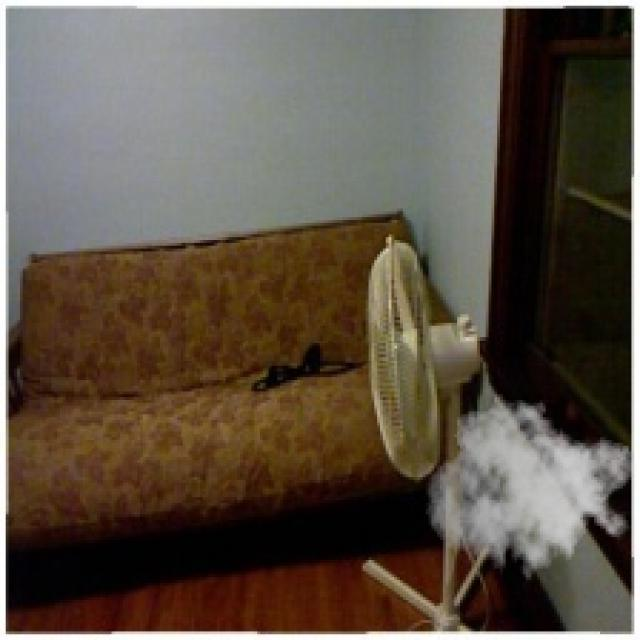Smoke: (426, 388, 638, 592)
